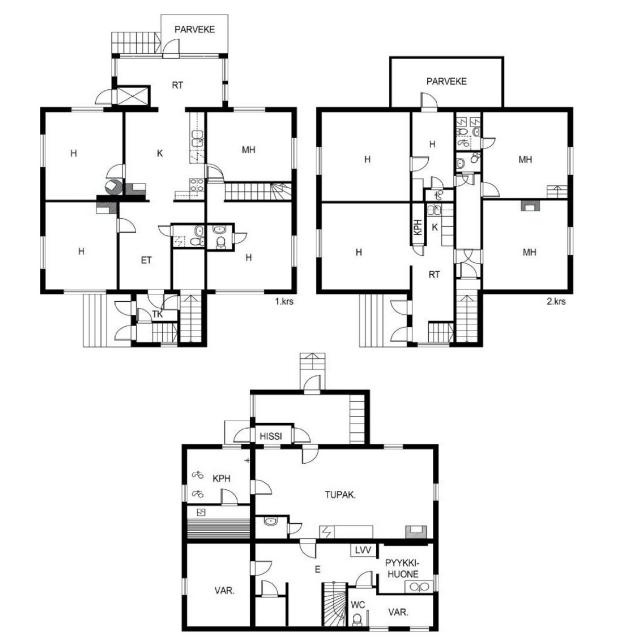door: (300, 538, 316, 558), (95, 90, 117, 104), (115, 326, 137, 340), (302, 444, 318, 463), (163, 39, 179, 58), (421, 93, 437, 112), (410, 156, 429, 172), (234, 428, 255, 442), (250, 480, 271, 494), (115, 302, 136, 316), (304, 376, 320, 394), (148, 290, 164, 308), (161, 296, 181, 310), (222, 489, 238, 506), (356, 571, 372, 588), (262, 580, 278, 597), (204, 164, 223, 178), (106, 164, 125, 178), (453, 250, 472, 264), (250, 562, 270, 575), (117, 218, 135, 232), (481, 182, 499, 196), (461, 263, 476, 279), (292, 428, 310, 441), (465, 250, 483, 263), (209, 168, 224, 183), (138, 308, 152, 323), (287, 523, 302, 534), (431, 177, 443, 190), (462, 172, 474, 185), (453, 176, 468, 186), (159, 226, 173, 236), (232, 233, 246, 243), (481, 138, 495, 148), (413, 244, 424, 255)
